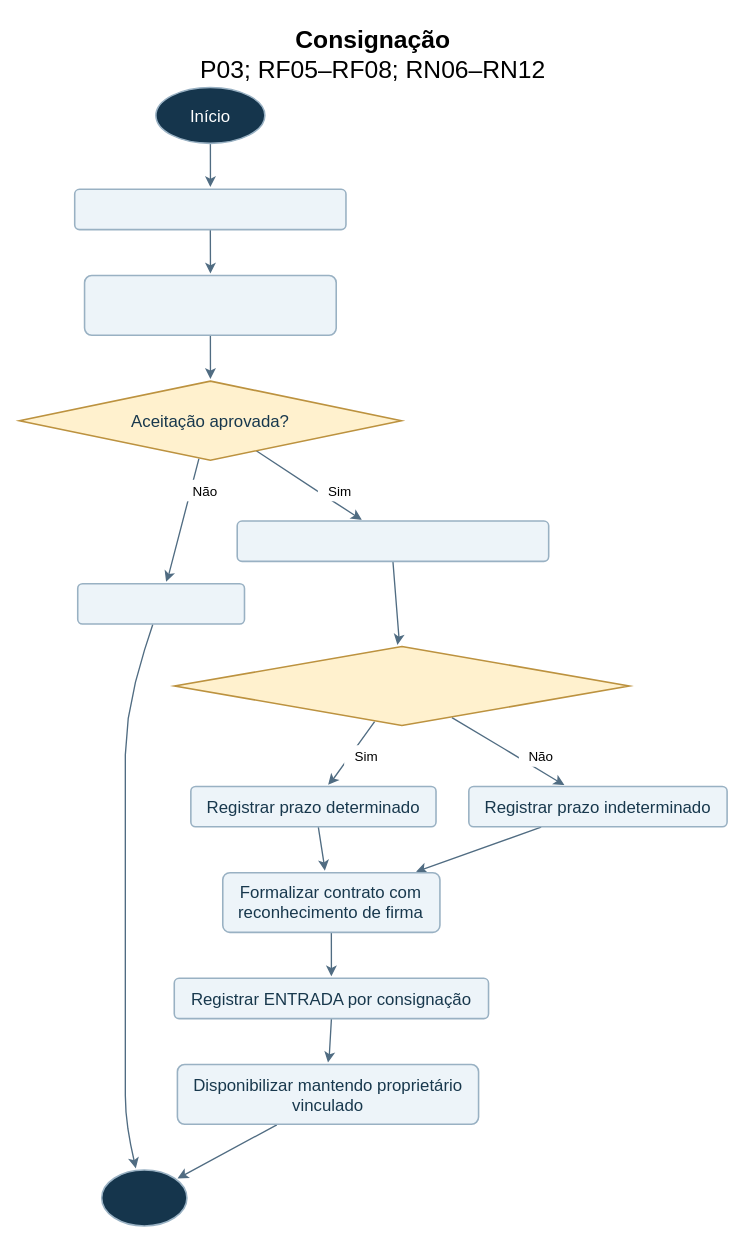
Image size: 748x1247. Some labels were removed from this diagram. The shapes that lost their labels are listed below. From the top down, each one's centre as x and y in pixels, then its label:
(x=209, y=209): Identificar proprietário e veículo
(x=209, y=304): Avaliar condições e interesse comercial
(x=392, y=541): Definir preço e condições de repasse
(x=160, y=603): Encerrar proposta
(x=401, y=685): Existe prazo excepcional?
(x=143, y=1197): Fim
